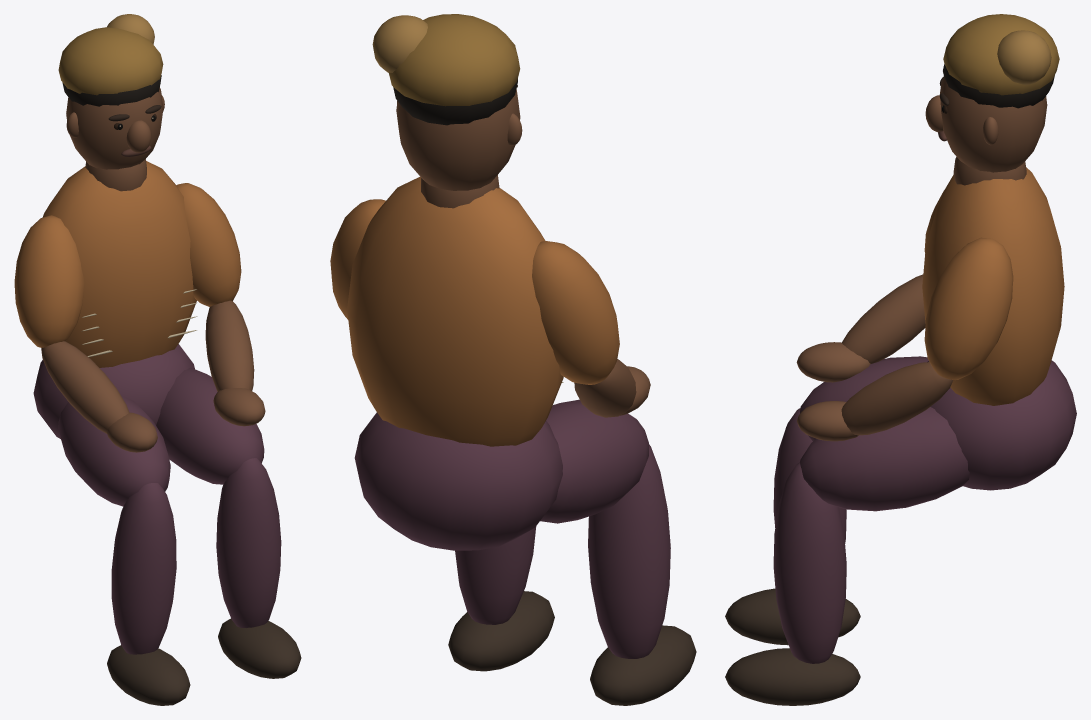
File: resident-1.glb
3 renders of one model, left to right at view 1: azimuth 30°, elevation 25°; view 2: azimuth 150°, elevation 25°; view 3: azimuth 270°, elevation 25°, orthographic. The views are drawn at different scales.
Parts seen in each view (by area): view 1: body; view 2: body; view 3: body.
Boxes of the visible parts, x1,y1,x2,y2 form: body: (14,14,301,705); body: (330,14,696,705); body: (725,14,1076,705).
Bounding box in the file's own units: 0.5179 × 1.34 × 0.653.
